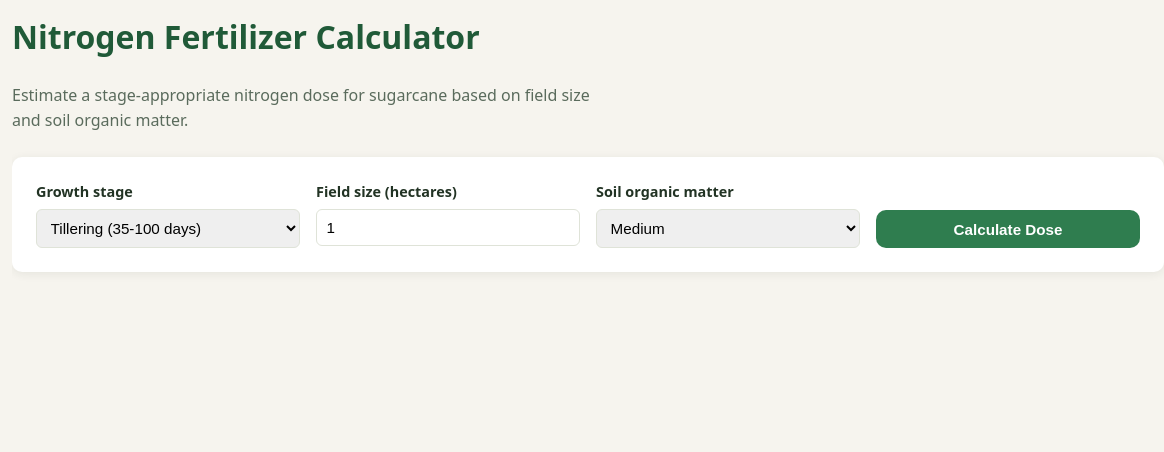
Test case: FertilizerCalculator page › renders the form and shows a recommended dose after submit
Expected: the heading "Nitrogen Fertilizer Calculator" is shown, 12,15 -> 480,58
Click the button "Calculate Dose": [1008, 229] box 876,210 -> 1140,248
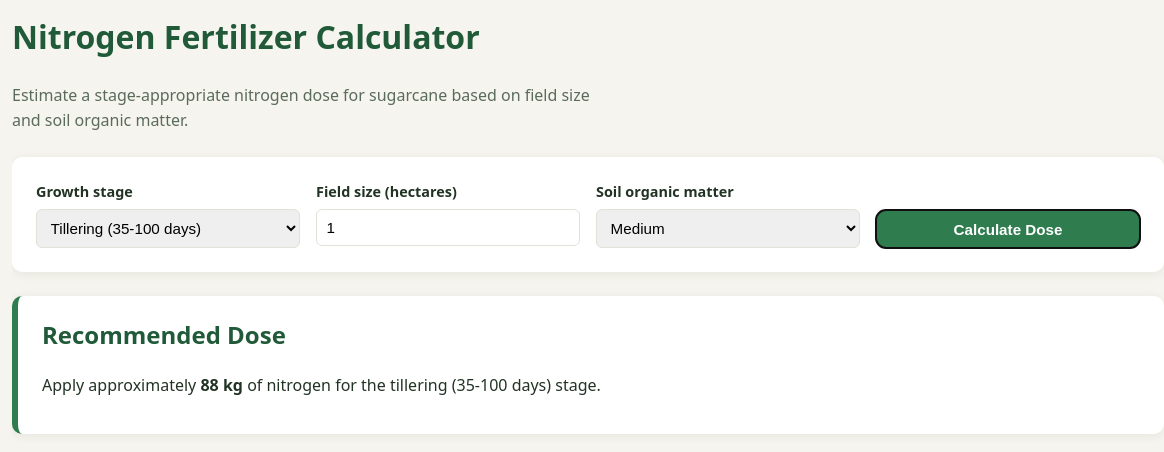
Expected: the heading "Recommended Dose" is shown, 42,318 -> 286,351
